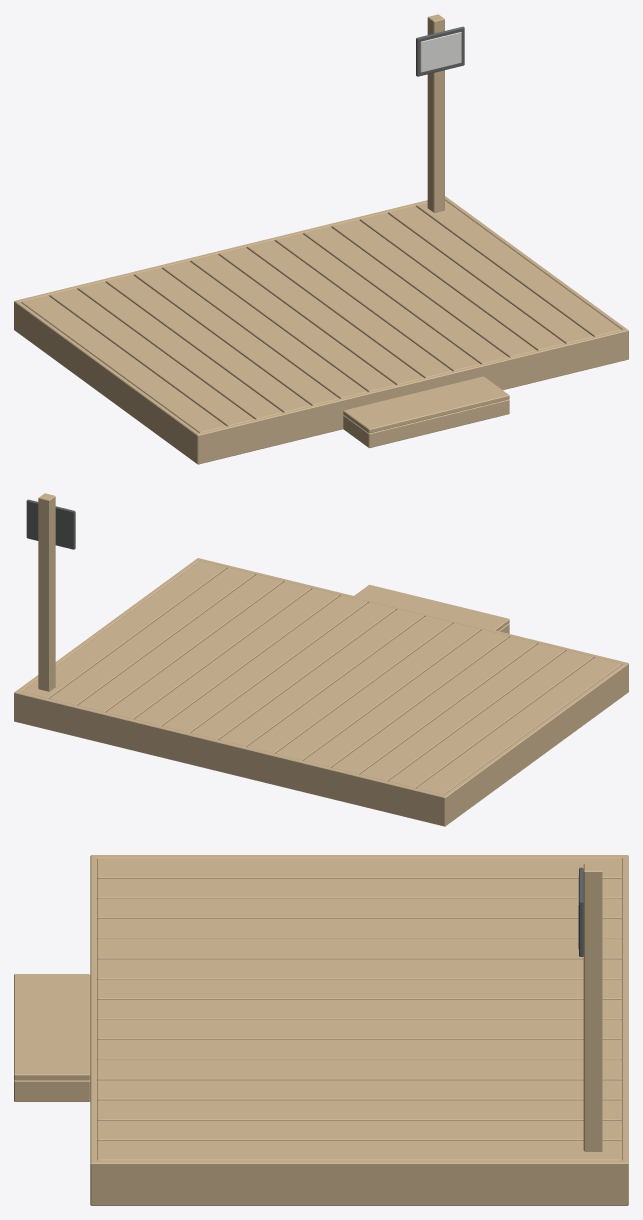
Rendered from garden-centre-and-florist-garden-furniture-display-dec-9e5b08fa__17780.glb.
3 renders of one model, top to bottom at view 1: azimuth 30°, elevation 25°; view 2: azimuth 150°, elevation 25°; view 3: azimuth 270°, elevation 25°, orthographic. The views are drawn at different scales.
Visible parts, largest first — view 1: garden-furniture-display-deck; view 2: garden-furniture-display-deck; view 3: garden-furniture-display-deck.
Part boxes in pixels (left/top/right/bottom): garden-furniture-display-deck: left=14, top=14, right=628, bottom=464; garden-furniture-display-deck: left=14, top=493, right=628, bottom=826; garden-furniture-display-deck: left=14, top=855, right=628, bottom=1205.
Bounding box in the file's own units: 3.08 × 1.5 × 2.58.
